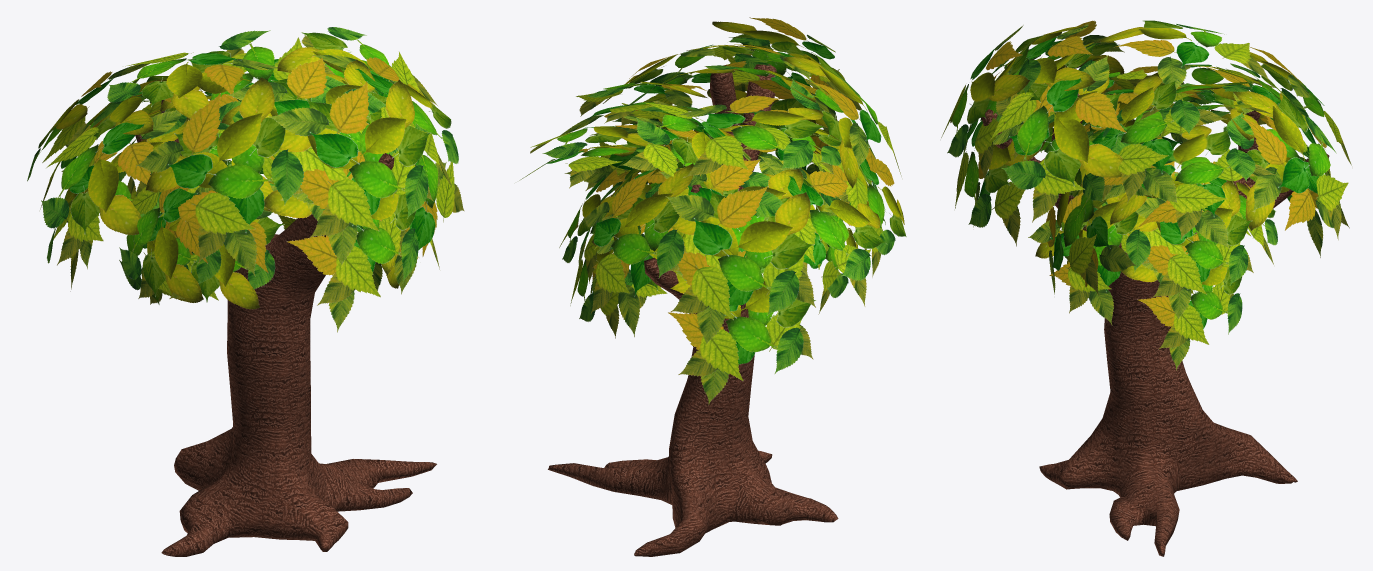
The model's file is Oak.fbx.
The picture shows the model from 3 angles, left to right: view 1: azimuth 30°, elevation 25°; view 2: azimuth 150°, elevation 25°; view 3: azimuth 270°, elevation 25°; orthographic projection. The views are drawn at different scales.
Visible parts, largest first — view 1: tree:Group42955, tree:Leaves1, tree:Leaves9, tree:Leaves32, tree:Leaves26, tree:Leaves44, tree:Leaves5, tree:Leaves2, tree:Leaves8, tree:Leaves33, tree:Leaves48, tree:Leaves39 (+15 smaller); view 2: tree:Group42955, tree:Leaves31, tree:Leaves30, tree:Leaves5, tree:Leaves23, tree:Leaves32, tree:Leaves28, tree:Leaves4, tree:Leaves1, tree:Leaves24, tree:Leaves42, tree:Leaves26 (+29 smaller); view 3: tree:Group42955, tree:Leaves46, tree:Leaves30, tree:Leaves39, tree:Leaves14, tree:Leaves43, tree:Leaves5, tree:Leaves37, tree:Leaves16, tree:Leaves9, tree:Leaves29, tree:Leaves12 (+23 smaller).
Boxes of the visible parts, box(x1,y1,x2,y2) form: tree:Group42955: box(135, 100, 436, 556); tree:Leaves1: box(136, 77, 303, 262); tree:Leaves9: box(268, 79, 430, 238); tree:Leaves32: box(41, 110, 181, 235); tree:Leaves26: box(119, 172, 217, 301); tree:Leaves44: box(292, 151, 418, 305); tree:Leaves5: box(107, 52, 277, 118); tree:Leaves2: box(145, 101, 296, 276); tree:Leaves8: box(279, 88, 433, 264); tree:Leaves33: box(226, 57, 397, 194); tree:Leaves48: box(264, 190, 406, 332); tree:Leaves39: box(277, 27, 437, 105); tree:Group42955: box(548, 64, 838, 556); tree:Leaves31: box(665, 186, 814, 320); tree:Leaves30: box(583, 163, 693, 313); tree:Leaves5: box(679, 95, 826, 177); tree:Leaves23: box(676, 250, 816, 381); tree:Leaves32: box(757, 155, 886, 280); tree:Leaves28: box(671, 189, 815, 343); tree:Leaves4: box(659, 159, 803, 271); tree:Leaves1: box(783, 53, 901, 176); tree:Leaves24: box(668, 269, 813, 405); tree:Leaves42: box(636, 100, 751, 195); tree:Leaves26: box(836, 159, 906, 255); tree:Group42955: box(981, 93, 1329, 556); tree:Leaves46: box(991, 55, 1126, 189); tree:Leaves30: box(1233, 91, 1348, 240); tree:Leaves39: box(1087, 75, 1200, 202); tree:Leaves14: box(1135, 181, 1252, 297); tree:Leaves43: box(1102, 125, 1255, 239); tree:Leaves5: box(1096, 20, 1270, 89); tree:Leaves37: box(1046, 168, 1104, 295); tree:Leaves16: box(1028, 192, 1150, 313); tree:Leaves9: box(941, 25, 1030, 157); tree:Leaves29: box(1226, 112, 1333, 230); tree:Leaves12: box(1110, 149, 1275, 248).
Bounding box in the file's own units: 15.97 × 18.5 × 15.71.
Materials: 2 (2 with a texture image).
